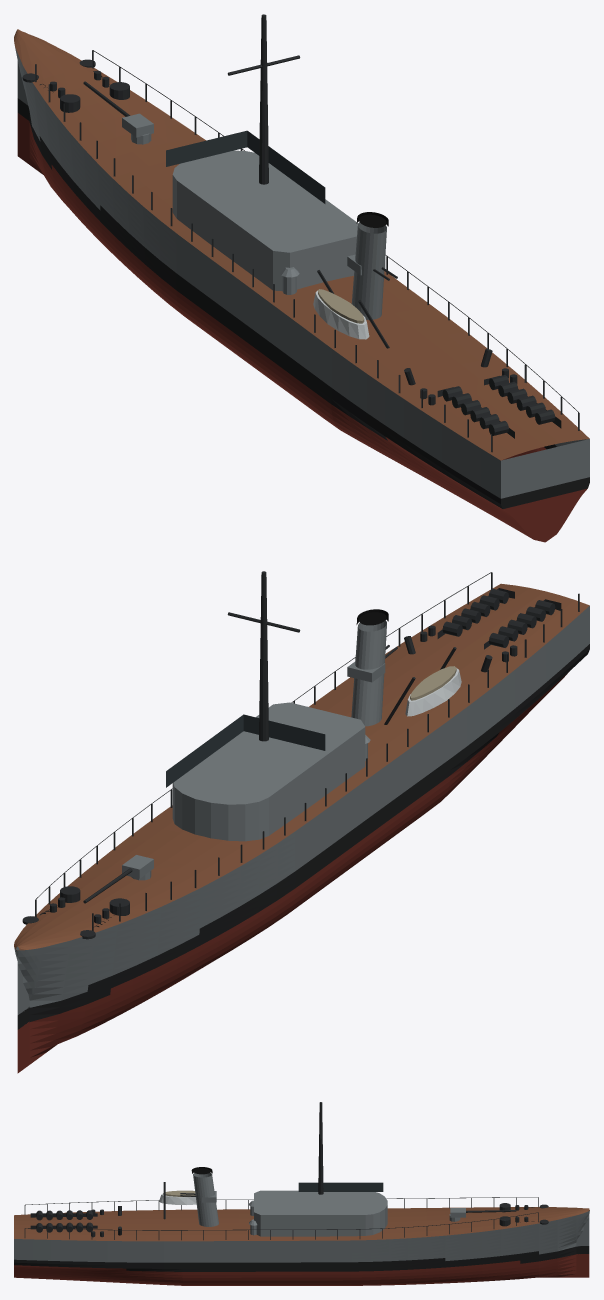
The model's file is subchaser.glb.
3 views of the same model, one above another, from view 1: azimuth 30°, elevation 25°; view 2: azimuth 150°, elevation 25°; view 3: azimuth 270°, elevation 25° (orthographic). The views are drawn at different scales.
Visible parts, largest first — view 1: Hull, Gun1; view 2: Hull, Gun1; view 3: Hull, Gun1.
Boxes of the visible parts, x1=… form: Hull: x1=14, y1=14, x2=589, y2=542; Gun1: x1=83, y1=81, x2=153, y2=144; Hull: x1=14, y1=571, x2=589, y2=1073; Gun1: x1=83, y1=855, x2=153, y2=903; Hull: x1=14, y1=1102, x2=589, y2=1285; Gun1: x1=449, y1=1208, x2=516, y2=1221.
Bounding box in the file's own units: 6.7 × 17.3 × 51.59.
